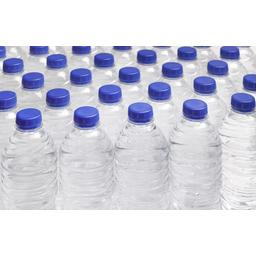plastic: (110, 101, 168, 219), (50, 101, 112, 211), (1, 107, 61, 216), (161, 97, 222, 201), (212, 91, 256, 204), (87, 84, 127, 138), (40, 89, 72, 146)
